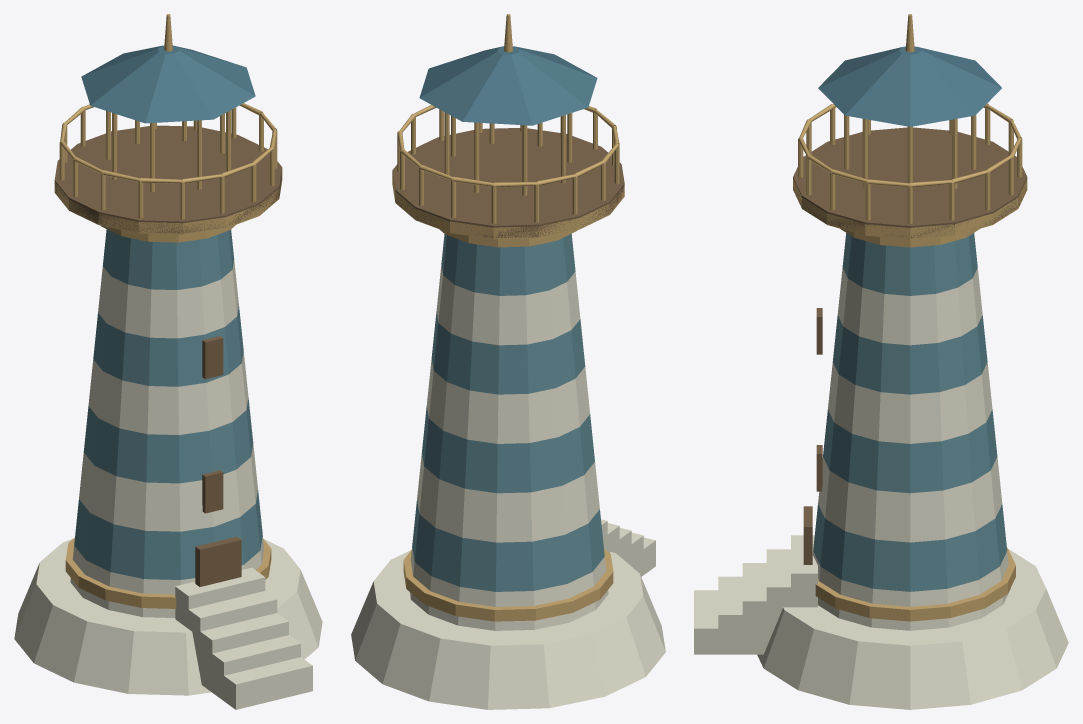
File: stylized_lighthouse.glb
3 renders of one model, left to right at view 1: azimuth 30°, elevation 25°; view 2: azimuth 150°, elevation 25°; view 3: azimuth 270°, elevation 25°, orthographic. The views are drawn at different scales.
Visible parts, largest first — view 1: Stepped lighthouse foundation; view 2: Stepped lighthouse foundation; view 3: Stepped lighthouse foundation.
Part boxes in pixels (box(x1,y1,x2,y2)): Stepped lighthouse foundation: box(14, 14, 322, 709); Stepped lighthouse foundation: box(351, 14, 665, 709); Stepped lighthouse foundation: box(694, 14, 1068, 709).
Size of the model in its own units: 4.2 by 9.18 by 4.96.
